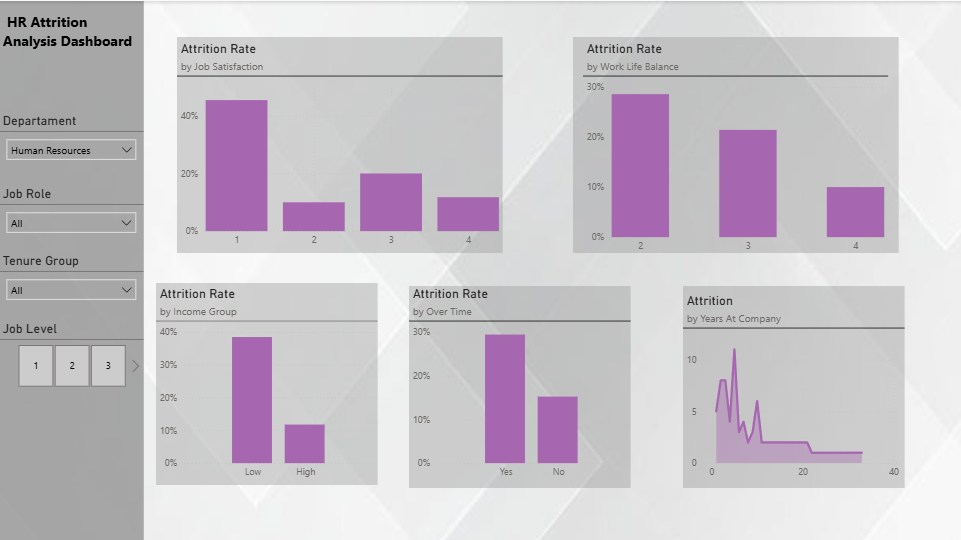

Layout of this report page (visuals, bound fields, positions):
{"tool":"powerbi","page":{"name":"Attrition Analysis","canvas":[1280,720],"ordinal":1},"visuals":[{"type":"shape","box":[0,0,192.3,720.2],"z":1000},{"type":"slicer","title":"Departament","fields":{"Values":["Employee.Department"]},"box":[0,148.6,192.3,111.4],"z":3000},{"type":"slicer","title":"Job Role","fields":{"Values":["Employee.JobRole"]},"box":[0,245.8,191.9,67.9],"z":4000},{"type":"slicer","title":"Job Level","fields":{"Values":["Employee.JobLevel"]},"box":[0,424.5,192.3,92.8],"z":5000},{"type":"textbox","box":[0,9.3,192.3,87.5],"z":6000},{"type":"slicer","title":"Tenure Group","fields":{"Values":["Employee.Tenure Group"]},"box":[0,334.3,192.3,71.6],"z":7000},{"type":"columnChart","title":"Attrition Rate","fields":{"Category":["Satisfaction.Label"],"Y":["Employee.Attrition Rate"]},"box":[255.8,51.6,431.9,281.1],"z":9000},{"type":"clusteredColumnChart","title":"Attrition Rate","fields":{"Category":["WorkLifeBalance.Label"],"Y":["Employee.Attrition Rate"]},"box":[758.7,51.6,457.1,283],"z":10000},{"type":"clusteredColumnChart","title":"Attrition Rate","fields":{"Category":["Employee.Income Group"],"Y":["Employee.Attrition Rate"]},"box":[255.8,406.6,293.7,254.8],"z":11000},{"type":"clusteredColumnChart","title":"Attrition Rate","fields":{"Category":["Employee.OverTime"],"Y":["Employee.Attrition Rate"]},"box":[588.4,406.6,293.7,254.8],"z":14000},{"type":"lineChart","title":"Attrition Rate","fields":{"Category":["Employee.YearsAtCompany"],"Y":["Employee.Attrition Rate"]},"box":[921.1,406.6,294.7,254.8],"z":15000}]}

Visuals, with their boxes in screenshot pixels (x1, y1, x2, y2), scaled from the page's 1280x720 canvas onto the 961x540 screenshot:
shape: Rect(0, 0, 144, 539)
"Departament" slicer: Rect(0, 111, 144, 195)
"Job Role" slicer: Rect(0, 184, 144, 235)
"Job Level" slicer: Rect(0, 318, 144, 388)
textbox: Rect(0, 7, 144, 73)
"Tenure Group" slicer: Rect(0, 251, 144, 304)
"Attrition Rate" columnChart: Rect(192, 39, 516, 250)
"Attrition Rate" clusteredColumnChart: Rect(570, 39, 913, 251)
"Attrition Rate" clusteredColumnChart: Rect(192, 305, 413, 496)
"Attrition Rate" clusteredColumnChart: Rect(442, 305, 662, 496)
"Attrition Rate" lineChart: Rect(692, 305, 913, 496)
